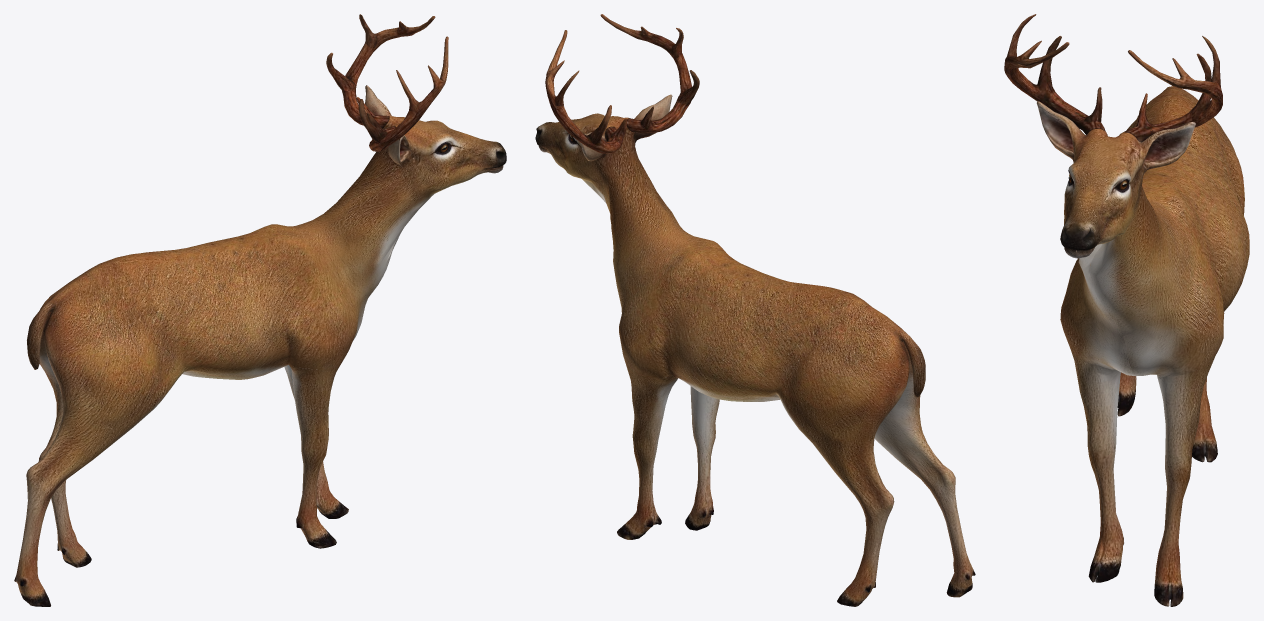
File: realistic_deer.glb
3 views of the same model, side by side, from view 1: azimuth 30°, elevation 25°; view 2: azimuth 150°, elevation 25°; view 3: azimuth 270°, elevation 25° (orthographic). The views are drawn at different scales.
Parts seen in each view (by area): view 1: deer.002_Material_0; view 2: deer.002_Material_0; view 3: deer.002_Material_0.
Boxes of the visible parts, x1,y1,x2,y2 form: deer.002_Material_0: (14, 14, 506, 606); deer.002_Material_0: (535, 14, 975, 606); deer.002_Material_0: (1004, 14, 1249, 606).
Bounding box in the file's own units: 4.62 × 4.63 × 1.71.
1 material, 1 textured.
